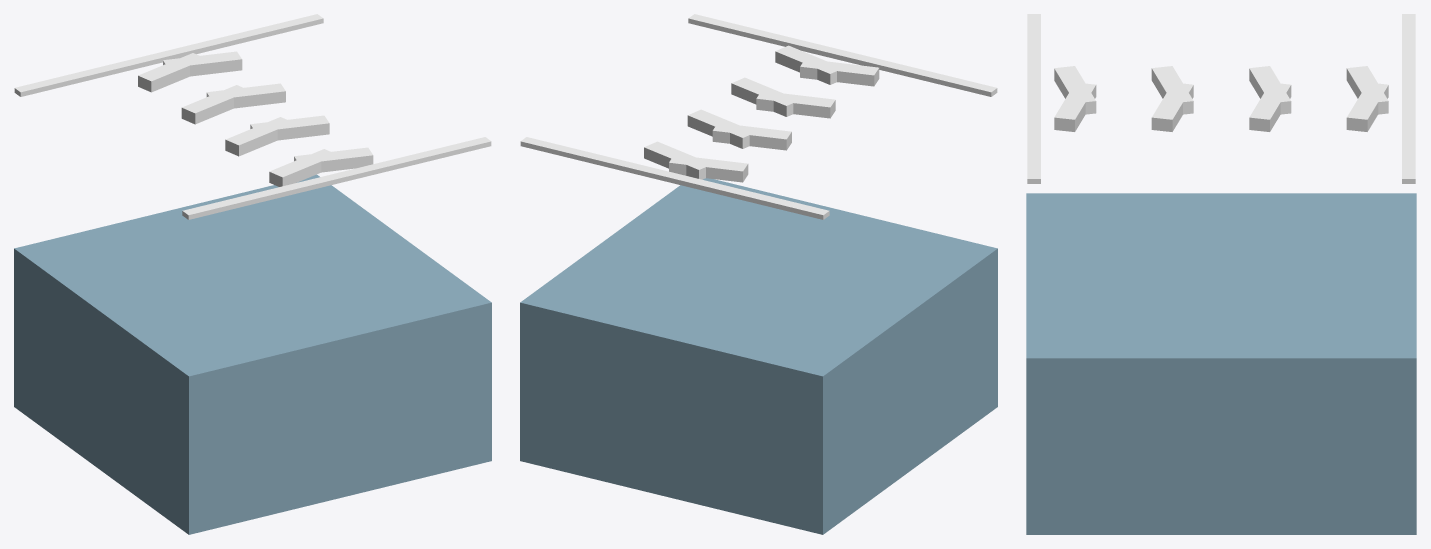
File: Conveyor_Half.glb
The picture shows the model from 3 angles, left to right: view 1: azimuth 30°, elevation 25°; view 2: azimuth 150°, elevation 25°; view 3: azimuth 270°, elevation 25°; orthographic projection. The views are drawn at different scales.
Parts seen in each view (by area): view 1: Conveyor_Half_body, rail_-0.001, rail_0.001, chev_2_1.001, chev_1_1.001, chev_3_1.001, chev_0_1.001, chev_1_-1.001, chev_0_-1.001, chev_2_-1.001, chev_3_-1.001; view 2: Conveyor_Half_body, rail_0.001, rail_-0.001, chev_2_1.001, chev_3_1.001, chev_1_-1.001, chev_0_1.001, chev_0_-1.001, chev_1_1.001, chev_3_-1.001, chev_2_-1.001; view 3: Conveyor_Half_body, rail_0.001, rail_-0.001, chev_3_-1.001, chev_2_-1.001, chev_0_-1.001, chev_1_-1.001, chev_2_1.001, chev_3_1.001, chev_1_1.001, chev_0_1.001.
Part boxes in pixels (x1,y1,x2,y2): Conveyor_Half_body: (14,174,491,534); rail_-0.001: (182,137,491,219); rail_0.001: (14,14,323,96); chev_2_1.001: (181,85,249,124); chev_1_1.001: (225,117,293,156); chev_3_1.001: (138,53,205,92); chev_0_1.001: (269,149,336,186); chev_1_-1.001: (250,115,329,140); chev_0_-1.001: (294,147,373,172); chev_2_-1.001: (206,83,285,108); chev_3_-1.001: (163,51,242,76); Conveyor_Half_body: (520,178,997,534); rail_0.001: (520,137,829,219); rail_-0.001: (688,14,997,96); chev_2_1.001: (712,123,791,150); chev_3_1.001: (669,155,748,182); chev_1_-1.001: (731,77,799,116); chev_0_1.001: (800,59,879,86); chev_0_-1.001: (775,45,843,84); chev_1_1.001: (756,92,835,118); chev_3_-1.001: (644,141,711,179); chev_2_-1.001: (687,109,749,148); Conveyor_Half_body: (1026,193,1416,534); rail_0.001: (1402,14,1415,183); rail_-0.001: (1027,14,1040,183); chev_3_-1.001: (1346,83,1388,131); chev_2_-1.001: (1249,82,1291,131); chev_0_-1.001: (1054,82,1096,131); chev_1_-1.001: (1151,82,1193,131); chev_2_1.001: (1249,66,1291,114); chev_3_1.001: (1346,66,1388,114); chev_1_1.001: (1151,66,1193,114); chev_0_1.001: (1054,66,1096,114).
Bounding box in the file's own units: 1 × 1.02 × 1.
